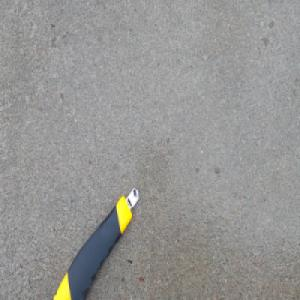Cutter: (49, 183, 140, 299)
